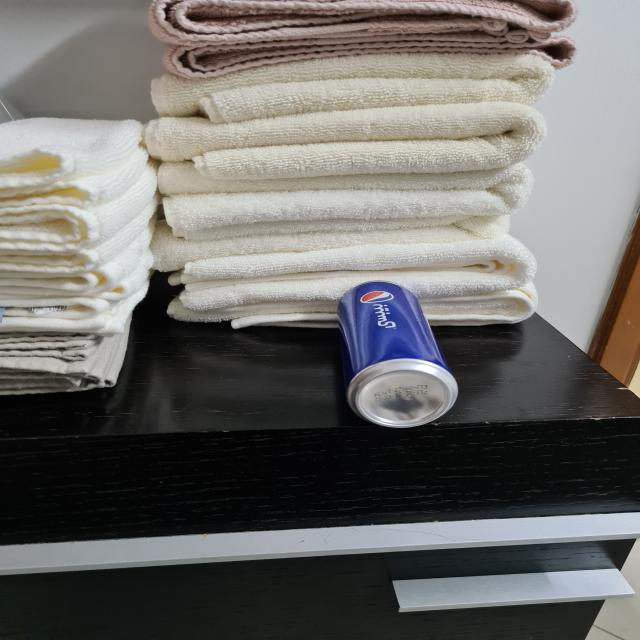non-organic waste: (340, 278, 460, 428)
